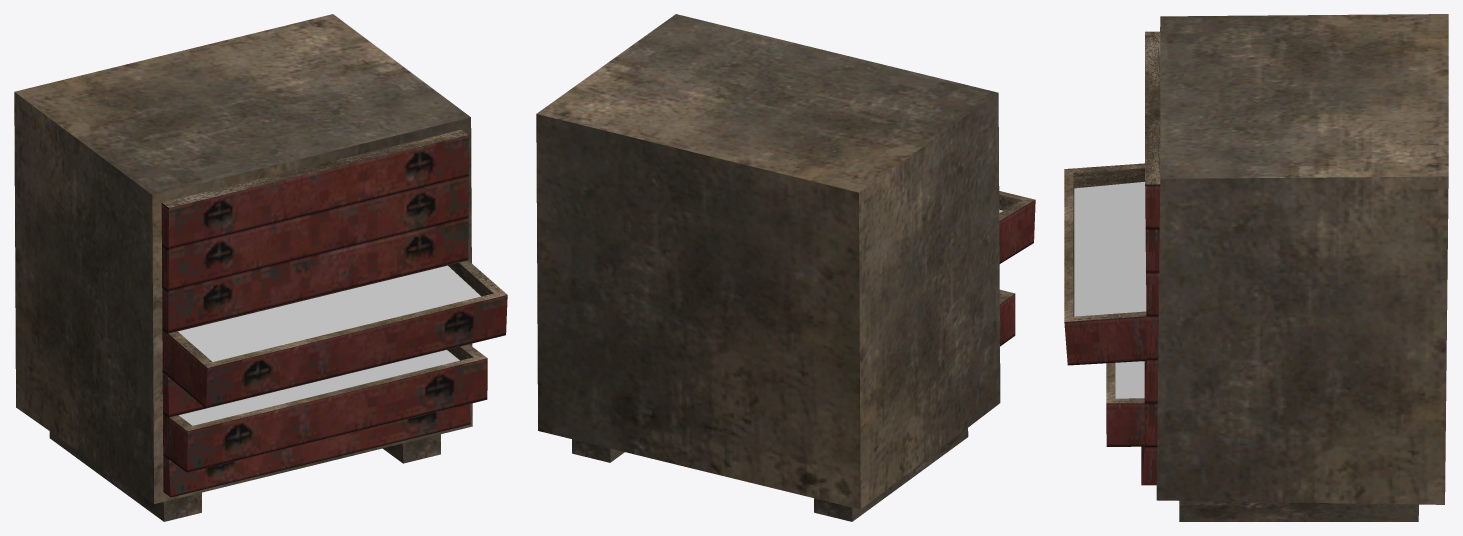
File: frn_all_toolchest_med_s01_l0.fbx
The picture shows the model from 3 angles, left to right: view 1: azimuth 30°, elevation 25°; view 2: azimuth 150°, elevation 25°; view 3: azimuth 270°, elevation 25°; orthographic projection. The views are drawn at different scales.
Parts seen in each view (by area): view 1: mesh_node; view 2: mesh_node; view 3: mesh_node.
Part boxes in pixels (x1=…): mesh_node: x1=14, y1=14, x2=507, y2=521; mesh_node: x1=536, y1=14, x2=1035, y2=521; mesh_node: x1=1064, y1=14, x2=1448, y2=521.
Bounding box in the file's own units: 1 × 1.02 × 0.9995.
